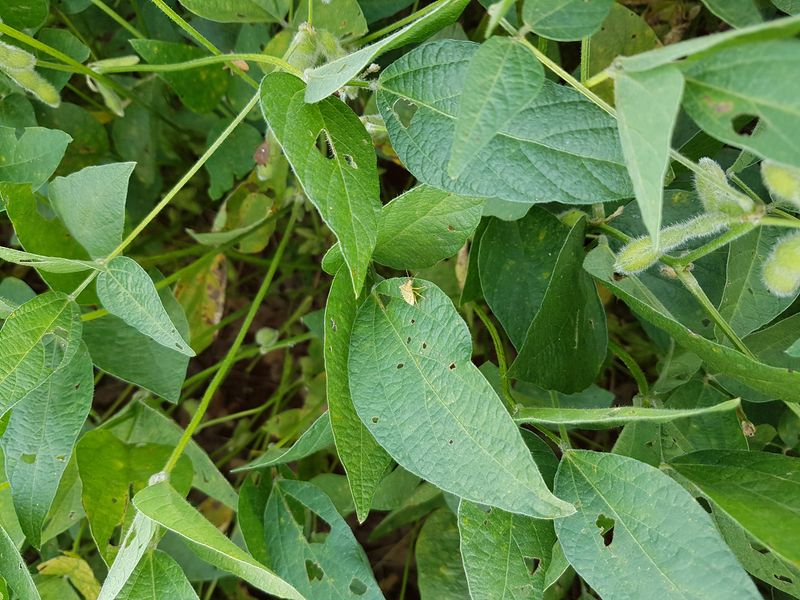Euschistus_heros_adulto: (249, 138, 277, 169)
Euschistus_heros_ninfa: (391, 267, 430, 311)
